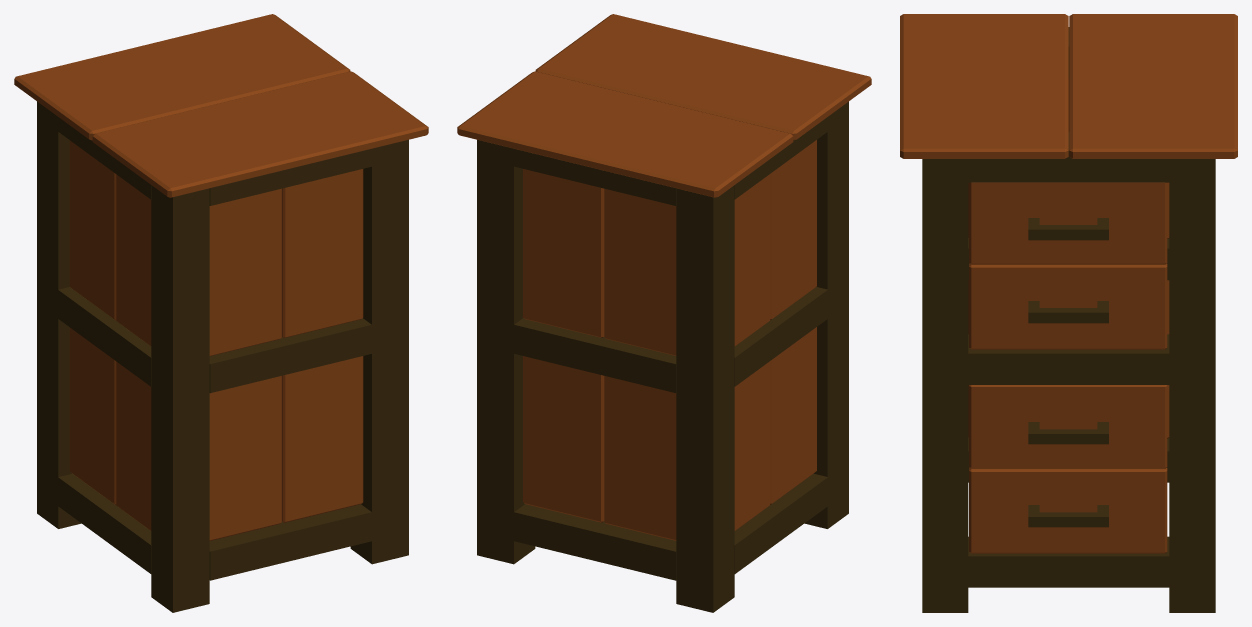
The model's file is vitrinia.FBX.
3 renders of one model, left to right at view 1: azimuth 30°, elevation 25°; view 2: azimuth 150°, elevation 25°; view 3: azimuth 270°, elevation 25°, orthographic. The views are drawn at different scales.
Visible parts, largest first — view 1: Box1662, Box1668, Box1661, Box1660; view 2: Box1662, Box1668, Box1660, Box1661; view 3: Box1662, Box1668, Box1660, Box1661.
Part boxes in pixels (x1=…): Box1662: x1=37, y1=101, x2=408, y2=612; Box1668: x1=69, y1=140, x2=363, y2=540; Box1661: x1=92, y1=71, x2=428, y2=197; Box1660: x1=14, y1=14, x2=350, y2=140; Box1662: x1=477, y1=101, x2=848, y2=612; Box1668: x1=523, y1=140, x2=816, y2=540; Box1660: x1=457, y1=71, x2=793, y2=197; Box1661: x1=535, y1=14, x2=871, y2=140; Box1662: x1=922, y1=27, x2=1215, y2=612; Box1668: x1=968, y1=78, x2=1169, y2=553; Box1660: x1=1069, y1=14, x2=1237, y2=158; Box1661: x1=900, y1=14, x2=1068, y2=158.
Bounding box in the file's own units: 58.15 × 89.68 × 58.6.
